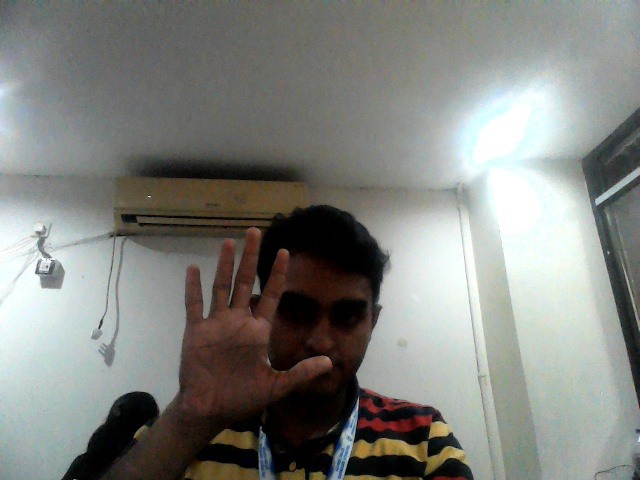palm: (175, 222, 334, 421)
